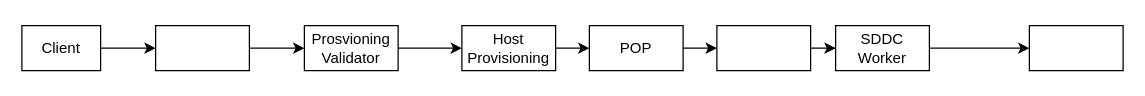
The diagram is 1145 pixels wide and 96 high, and some of its shapes have lost their labels. Here are the shapes that lost their labels. From the top down, the centre of each, then its label:
At (x=201, y=47): "SDDC Provisioning".
At (x=763, y=47): "Storage Service".
At (x=1075, y=47): "pod-based bringup(esx hosts)".
